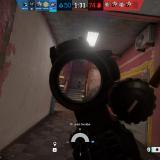Character: (77, 78, 82, 90)
Head: (79, 78, 80, 80)
